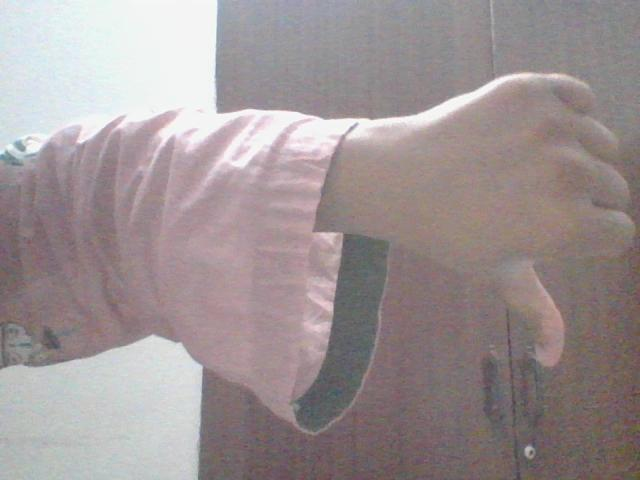thumbs-down: (448, 64, 640, 364)
